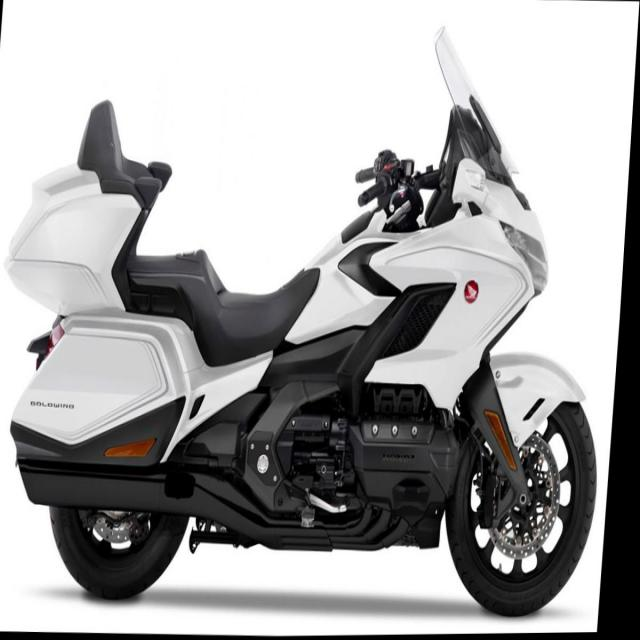Gold Wing: (0, 11, 633, 628)
